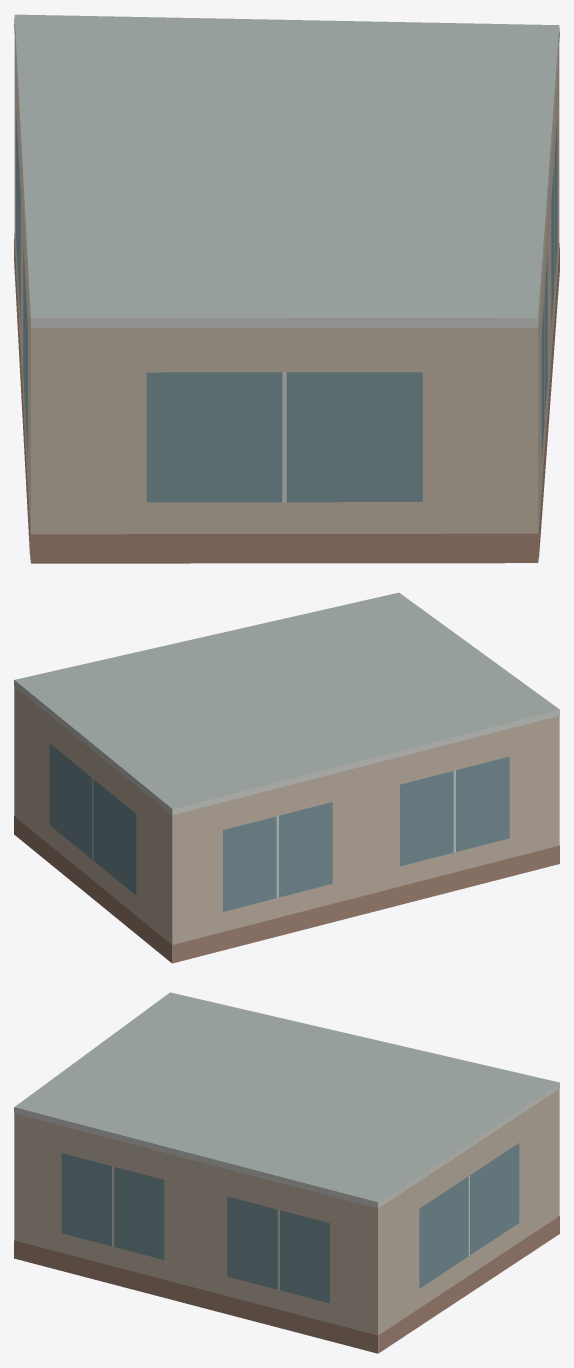
File: survey-upis-32908660.glb
The picture shows the model from 3 angles, top to bottom: view 1: azimuth 30°, elevation 25°; view 2: azimuth 150°, elevation 25°; view 3: azimuth 270°, elevation 25°; orthographic projection. The views are drawn at different scales.
Visible parts, largest first — view 1: survey-upis-32908660.tmp; view 2: survey-upis-32908660.tmp; view 3: survey-upis-32908660.tmp.
Part boxes in pixels (x1,y1,x2,y2): survey-upis-32908660.tmp: (14, 14, 559, 563); survey-upis-32908660.tmp: (14, 592, 559, 963); survey-upis-32908660.tmp: (14, 992, 559, 1353).
Bounding box in the file's own units: 9.09 × 3.05 × 9.98.
